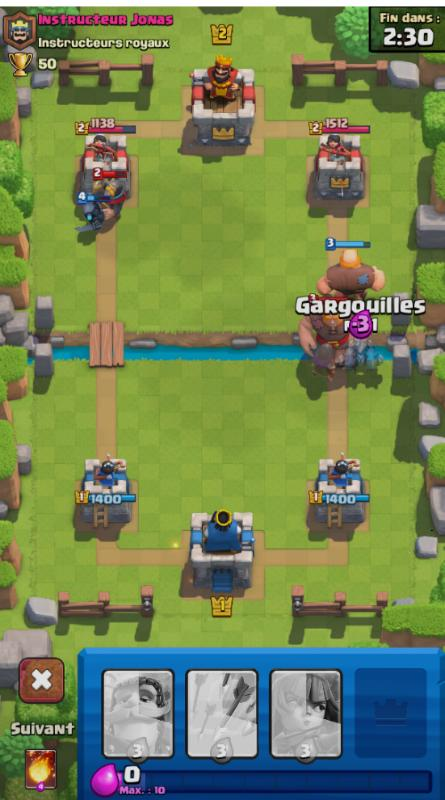chevalier: (90, 170, 135, 221)
gargouille: (337, 342, 363, 371), (353, 326, 374, 360), (361, 345, 384, 375)
geant: (315, 240, 388, 305), (296, 300, 353, 377)
mini_PEKKA: (67, 190, 112, 239)
